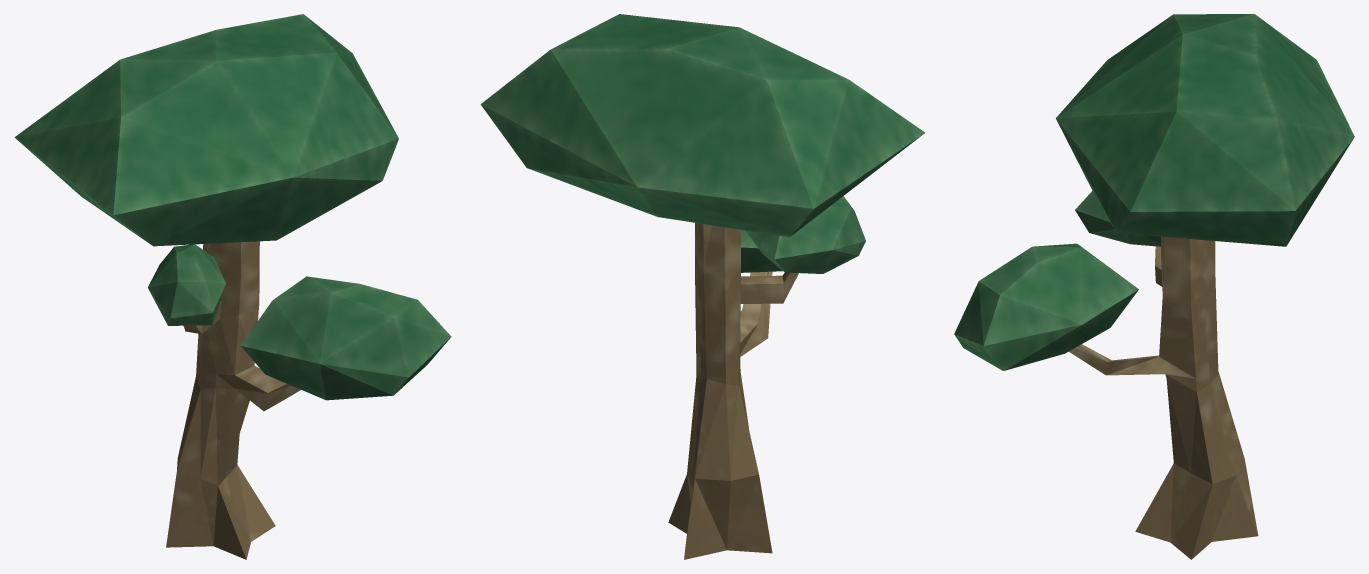
File: GJ_Decor_Exterior_Tree_03.fbx
The picture shows the model from 3 angles, left to right: view 1: azimuth 30°, elevation 25°; view 2: azimuth 150°, elevation 25°; view 3: azimuth 270°, elevation 25°; orthographic projection. The views are drawn at different scales.
Visible parts, largest first — view 1: GJ_Decor_Exterior_Tree_03; view 2: GJ_Decor_Exterior_Tree_03; view 3: GJ_Decor_Exterior_Tree_03.
Part boxes in pixels (x1,y1,x2,y2): GJ_Decor_Exterior_Tree_03: [14, 14, 451, 559]; GJ_Decor_Exterior_Tree_03: [480, 14, 924, 559]; GJ_Decor_Exterior_Tree_03: [954, 14, 1354, 559].
Bounding box in the file's own units: 9.38 × 13.08 × 9.62.
1 material, 1 textured.
